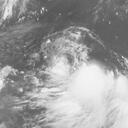cyclone: (50, 59, 112, 111)
